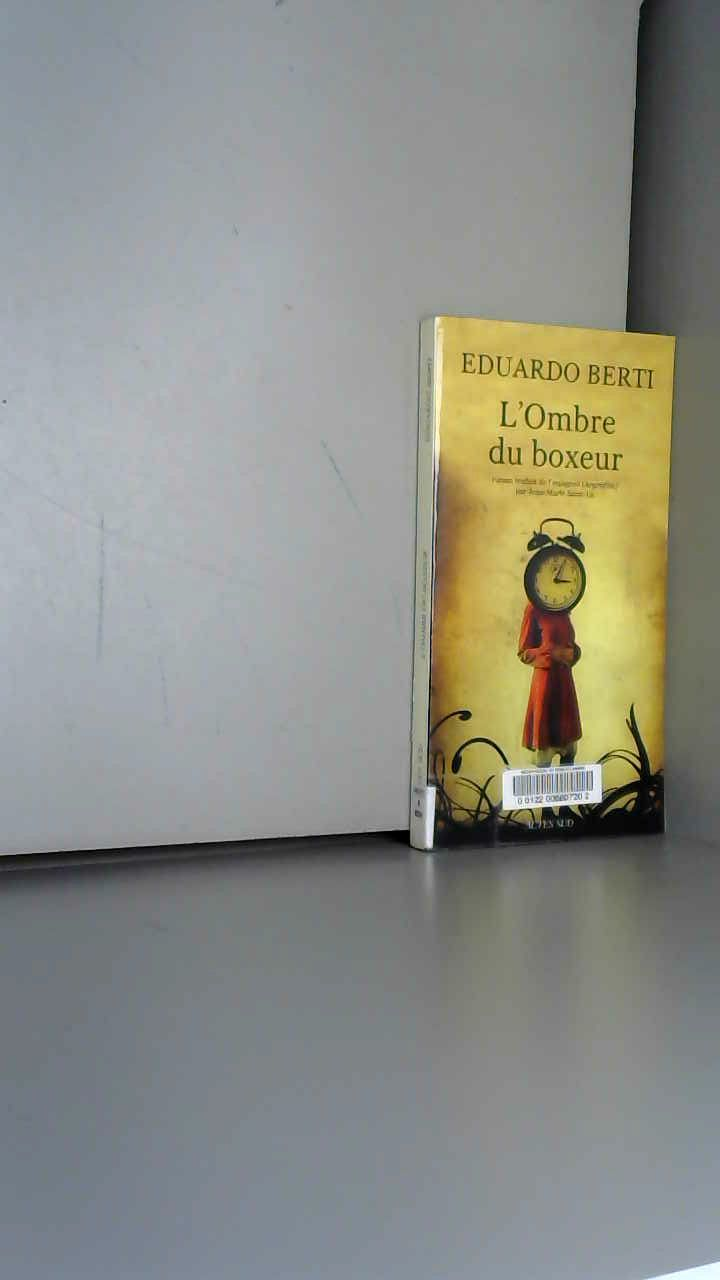book: (400, 290, 719, 911)
